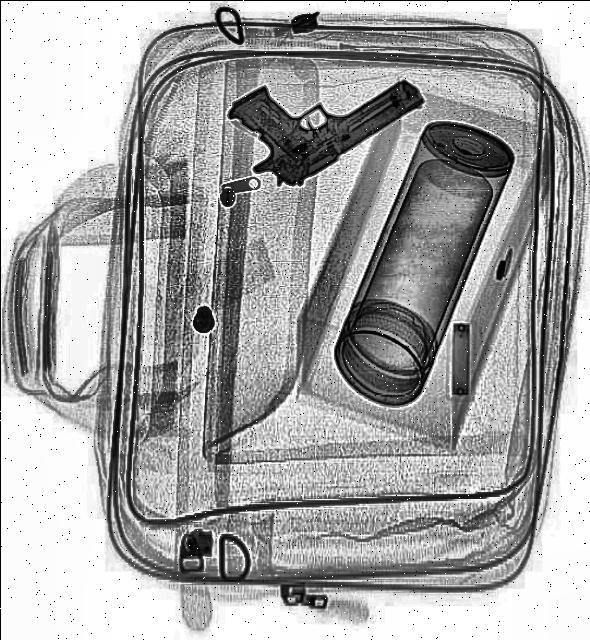Gun: (214, 16, 424, 202)
